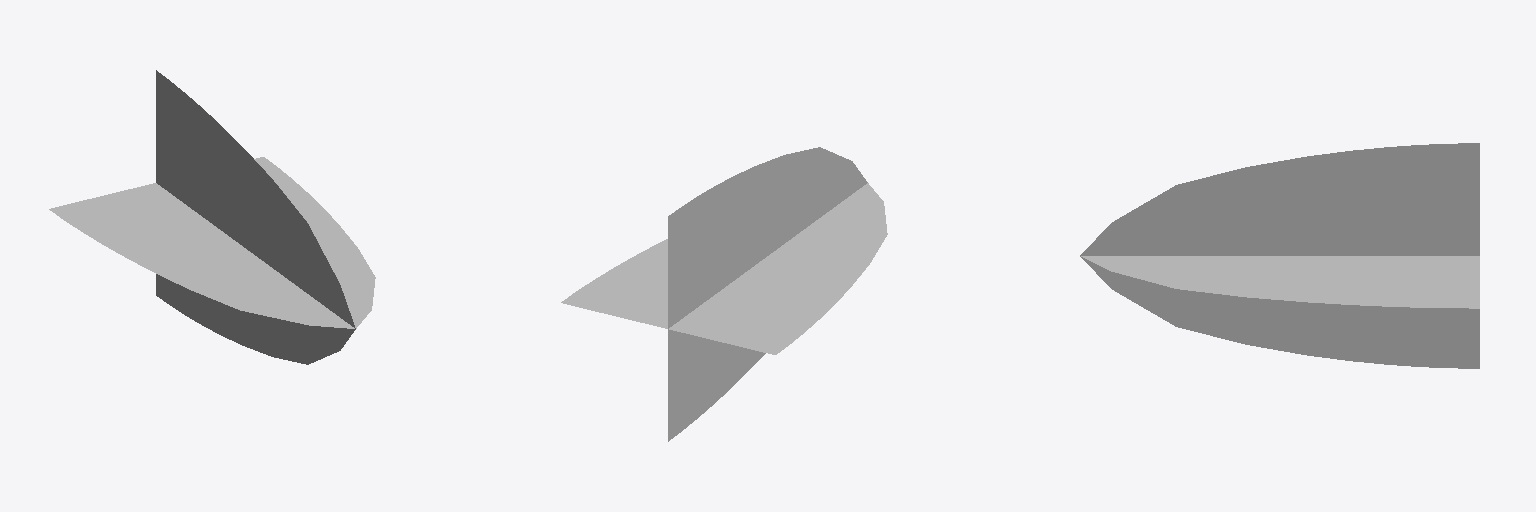
The model's file is BulletTrail.obj.
The picture shows the model from 3 angles: view 1: azimuth 30°, elevation 25°; view 2: azimuth 150°, elevation 25°; view 3: azimuth 270°, elevation 25°; orthographic projection.
Visible parts, largest first — view 1: Plane; view 2: Plane; view 3: Plane.
Boxes of the visible parts, <box> form: Plane: <box>49,70,375,364</box>; Plane: <box>561,147,887,441</box>; Plane: <box>1080,143,1479,368</box>.
Bounding box in the file's own units: 2 × 2 × 3.22.